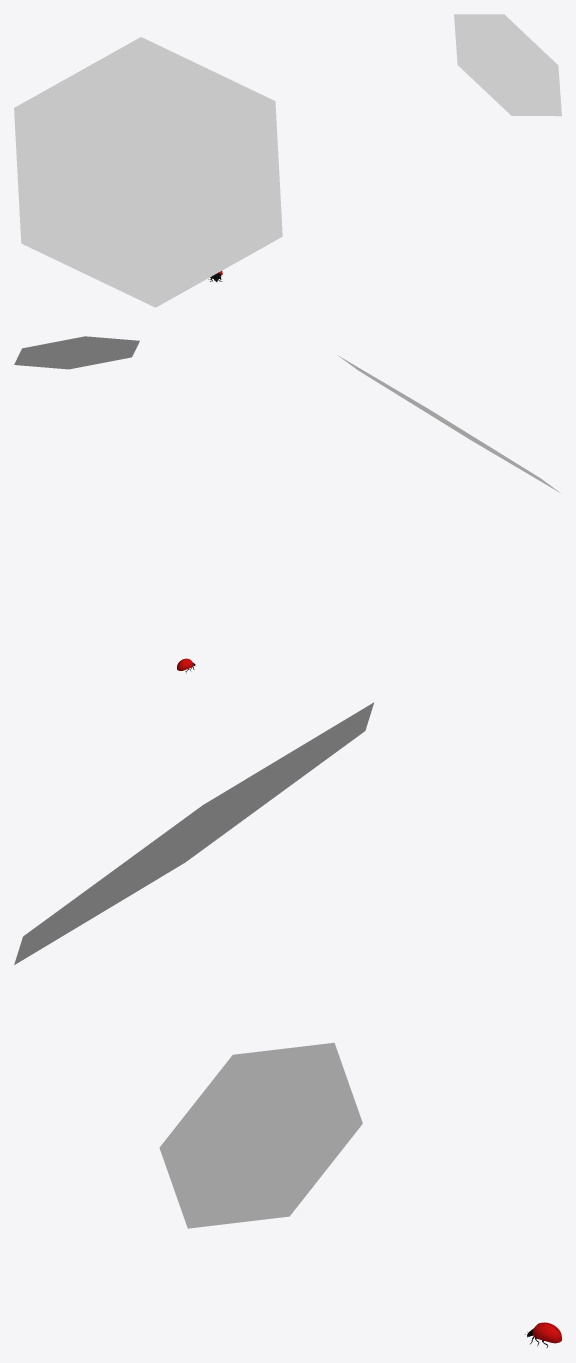
File: ladybug.obj
3 views of the same model, one above another, from view 1: azimuth 30°, elevation 25°; view 2: azimuth 150°, elevation 25°; view 3: azimuth 270°, elevation 25° (orthographic). The views are drawn at different scales.
Visible parts, largest first — view 1: Circle.001, Circle.002_Circle.016; view 2: Circle.002_Circle.016, Circle.001; view 3: Circle.002_Circle.016, Circle.001.
Part boxes in pixels (box(x1,y1,x2,y2)): Circle.001: box(14, 37, 282, 307); Circle.002_Circle.016: box(454, 14, 561, 116); Circle.002_Circle.016: box(14, 336, 139, 369); Circle.001: box(337, 355, 559, 492); Circle.002_Circle.016: box(159, 1042, 362, 1228); Circle.001: box(14, 702, 374, 964).
Bounding box in the file's own units: 62.6 × 33.36 × 32.52.
